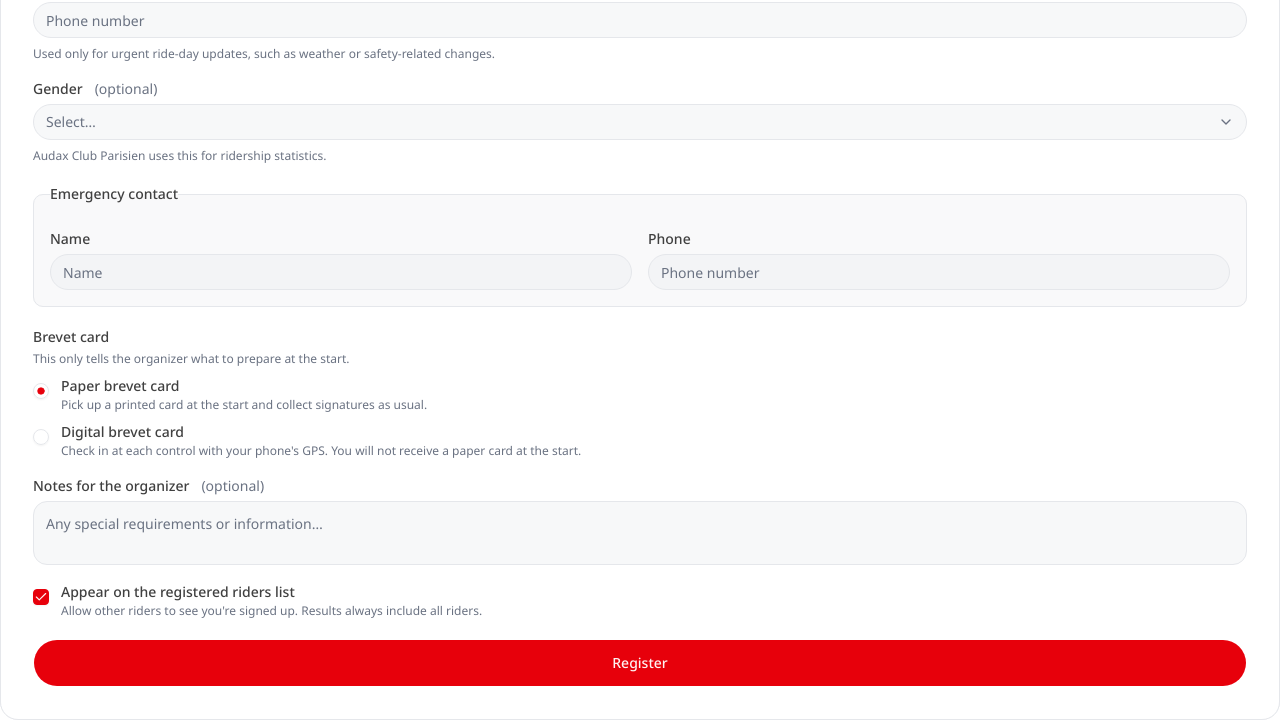
Test case: RegistrationForm › form fields › toggles share registration by clicking its label text, even with two forms on the page
(page scrolled)
Check: the number of checkboxes named "appear on the registered riders list" is 2, box [33,589,49,605]; [33,589,49,605]
Click the text "Appear on the registered riders list" at (178, 592), box [61,585,295,599]
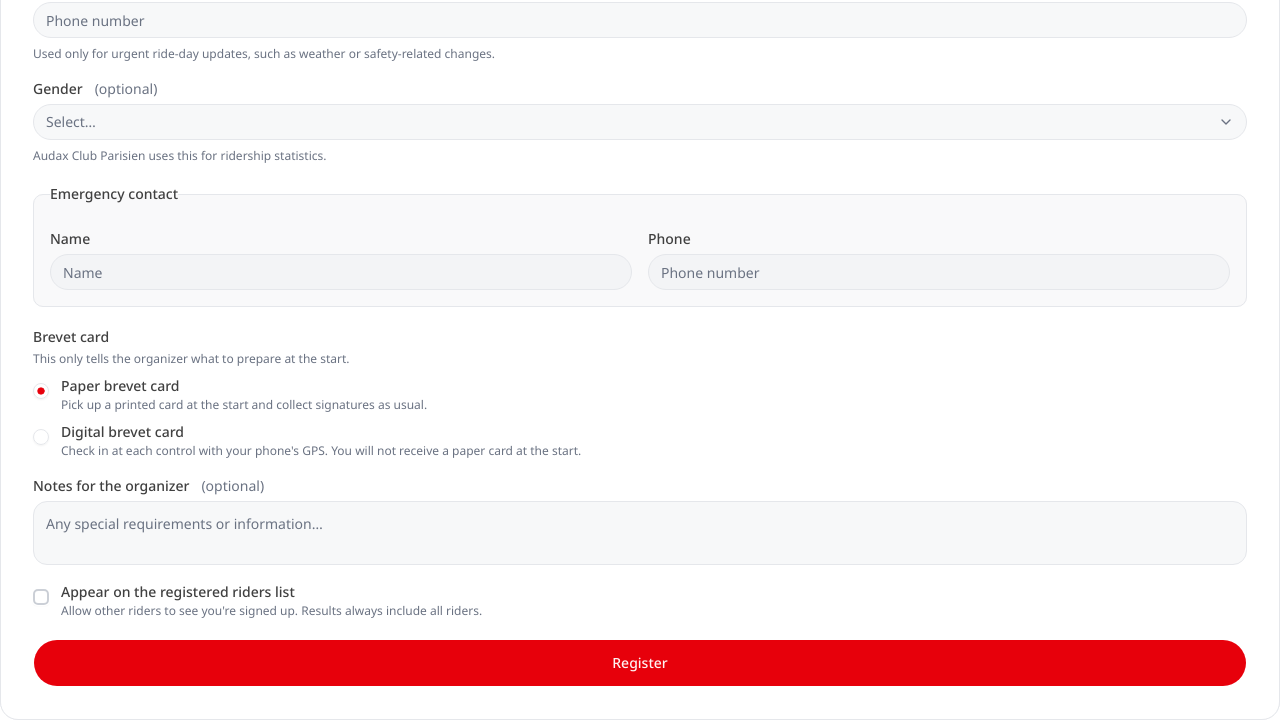
Check: the 1st checkbox named "appear on the registered riders list" is checked, box [33,589,49,605]
Check: the checkbox named "appear on the registered riders list" is not checked, box [33,589,49,605]
